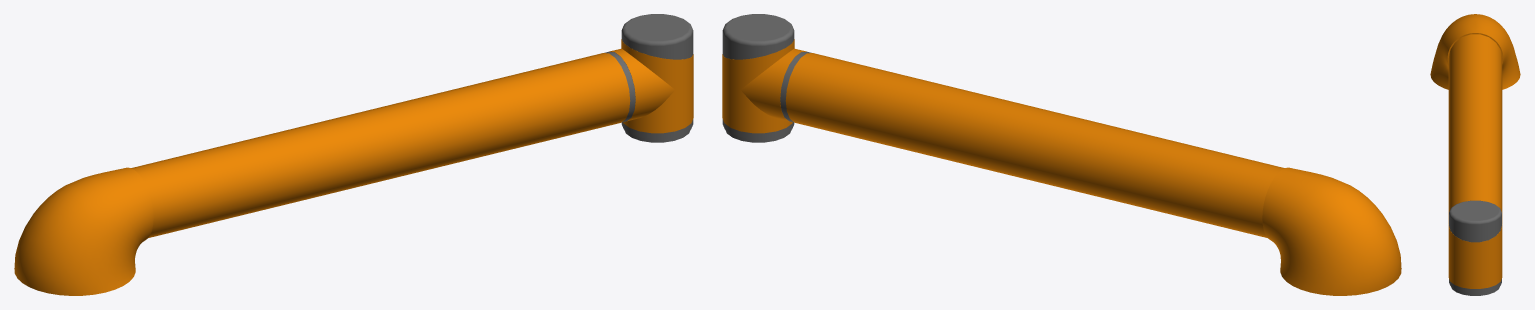
3 views of the same model, side by side, from view 1: azimuth 30°, elevation 25°; view 2: azimuth 150°, elevation 25°; view 3: azimuth 270°, elevation 25° (orthographic). The views are drawn at different scales.
Parts seen in each view (by area): view 1: FBXASC195FBXASC135FBXASC195FBXASC144FBXASC194FBXASC179FBXASC; view 2: FBXASC195FBXASC135FBXASC195FBXASC144FBXASC194FBXASC179FBXASC; view 3: FBXASC195FBXASC135FBXASC195FBXASC144FBXASC194FBXASC179FBXASC.
Part boxes in pixels (x1,y1,x2,y2): FBXASC195FBXASC135FBXASC195FBXASC144FBXASC194FBXASC179FBXASC: (14,14,693,295); FBXASC195FBXASC135FBXASC195FBXASC144FBXASC194FBXASC179FBXASC: (722,14,1401,295); FBXASC195FBXASC135FBXASC195FBXASC144FBXASC194FBXASC179FBXASC: (1430,14,1520,295).
Size of the model in its own units: 0.9485 by 0.15 by 0.1375.
